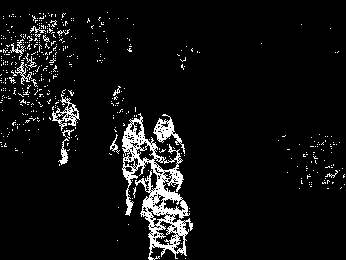person: (150, 170, 192, 260), (52, 83, 84, 168), (122, 118, 151, 210), (153, 115, 194, 178)
